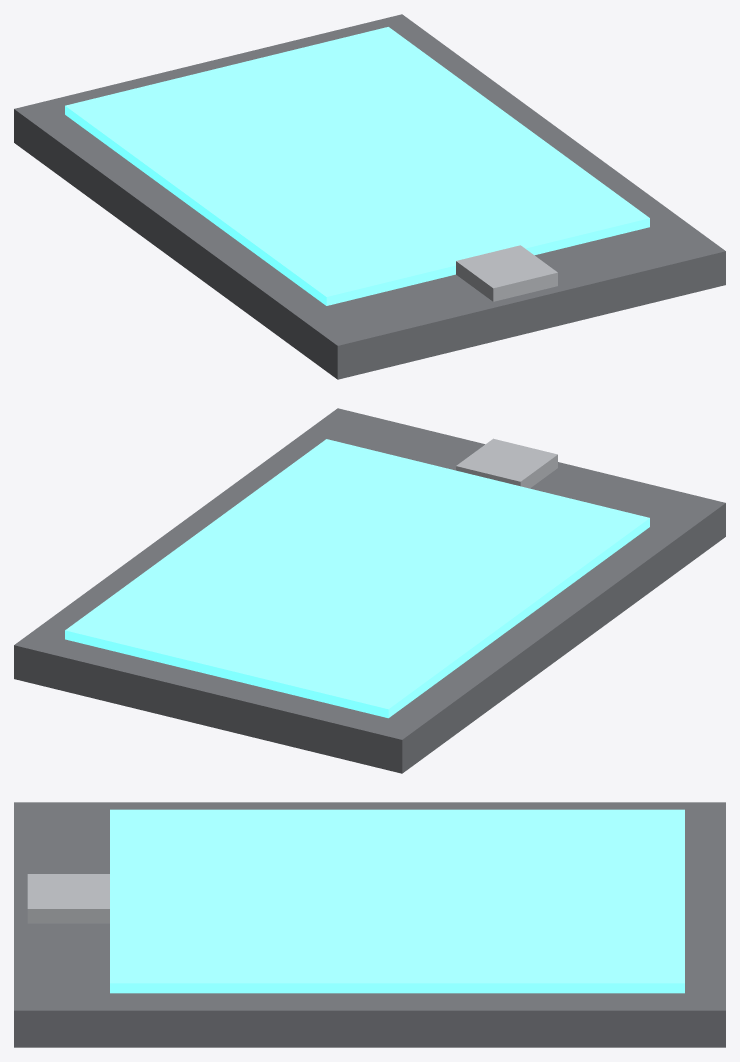
The model's file is SM_Datapad.glb.
3 renders of one model, top to bottom at view 1: azimuth 30°, elevation 25°; view 2: azimuth 150°, elevation 25°; view 3: azimuth 270°, elevation 25°, orthographic. The views are drawn at different scales.
Visible parts, largest first — view 1: SM_Datapad; view 2: SM_Datapad; view 3: SM_Datapad.
Part boxes in pixels (x1=…): SM_Datapad: x1=14, y1=14, x2=725, y2=379; SM_Datapad: x1=14, y1=408, x2=725, y2=773; SM_Datapad: x1=14, y1=802, x2=725, y2=1047.
Bounding box in the file's own units: 0.18 × 0.021 × 0.26.
